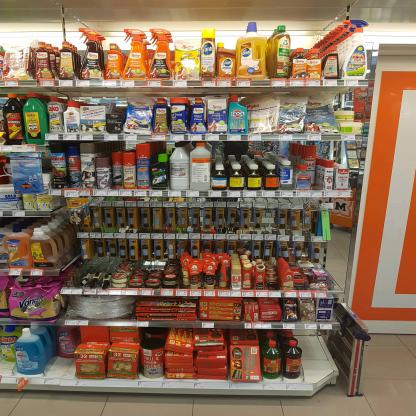Void: (304, 331, 321, 376), (55, 355, 72, 376)
